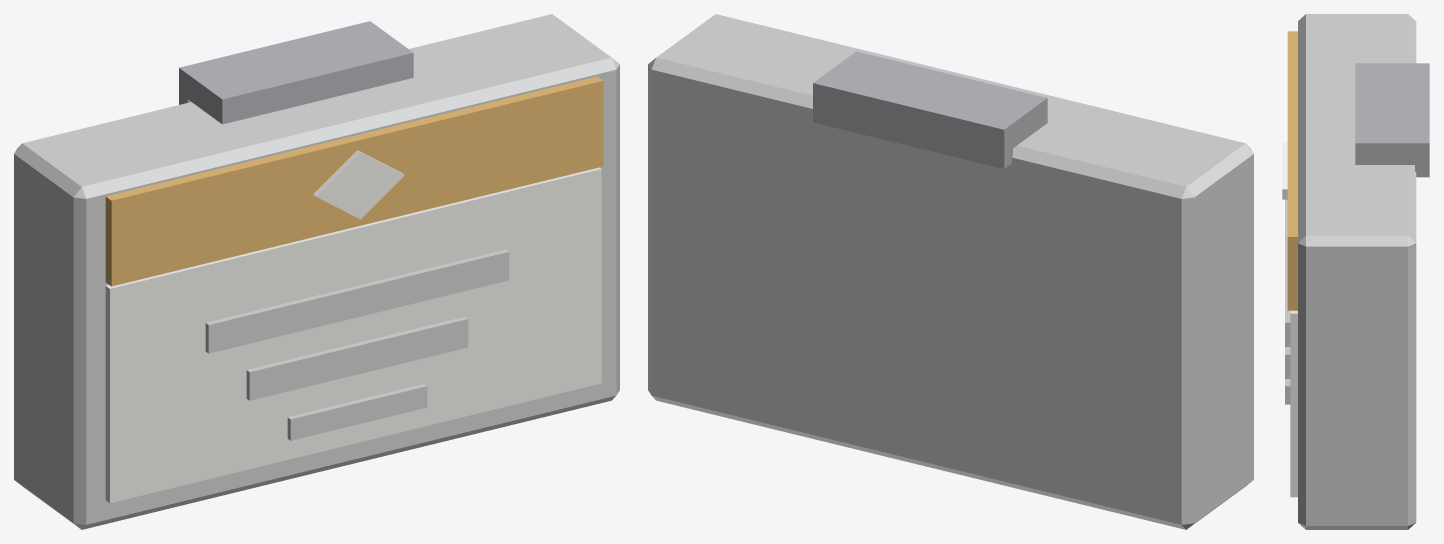
The model's file is prop_online_hold_tag_01.glb.
The picture shows the model from 3 angles, left to right: view 1: azimuth 30°, elevation 25°; view 2: azimuth 150°, elevation 25°; view 3: azimuth 270°, elevation 25°; orthographic projection. The views are drawn at different scales.
Visible parts, largest first — view 1: prop_online_hold_tag_01; view 2: prop_online_hold_tag_01; view 3: prop_online_hold_tag_01.
Boxes of the visible parts, left/top/right/bottom form: prop_online_hold_tag_01: left=14, top=14, right=619, bottom=529; prop_online_hold_tag_01: left=648, top=14, right=1253, bottom=529; prop_online_hold_tag_01: left=1282, top=14, right=1429, bottom=529.
Bounding box in the file's own units: 0.08 × 0.0515 × 0.0218.
